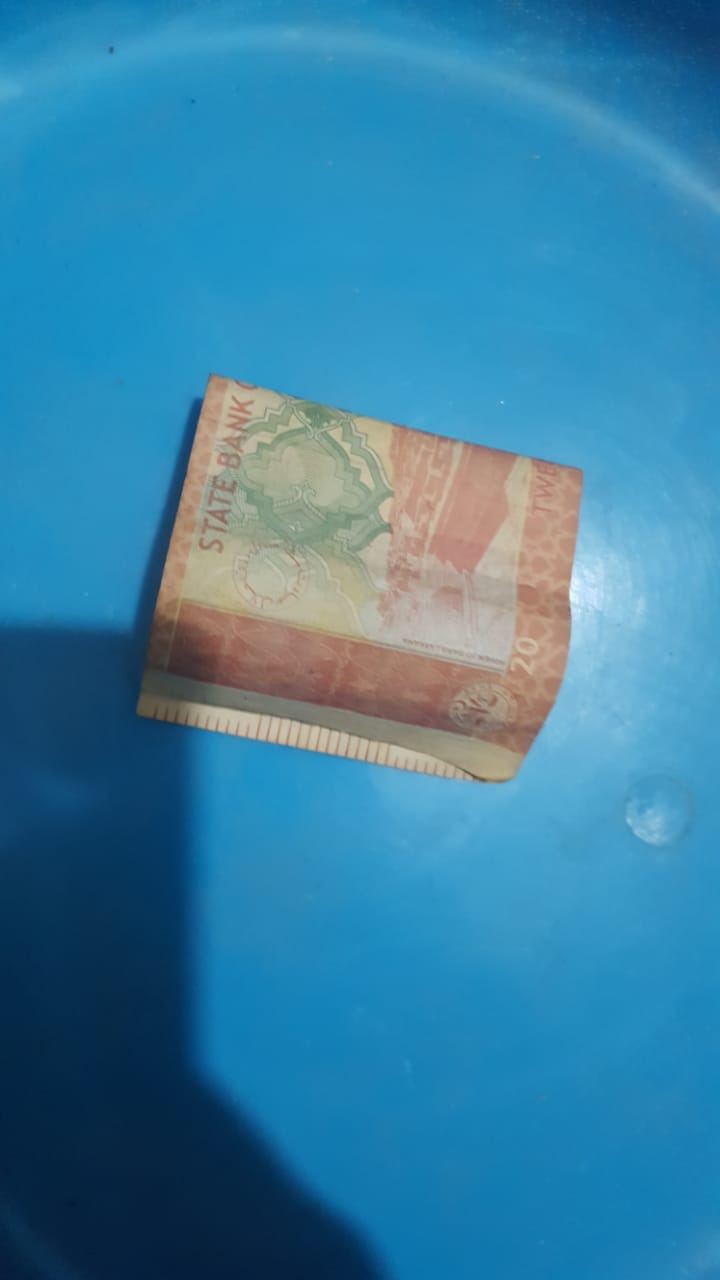20 rupee: (123, 324, 602, 803)
